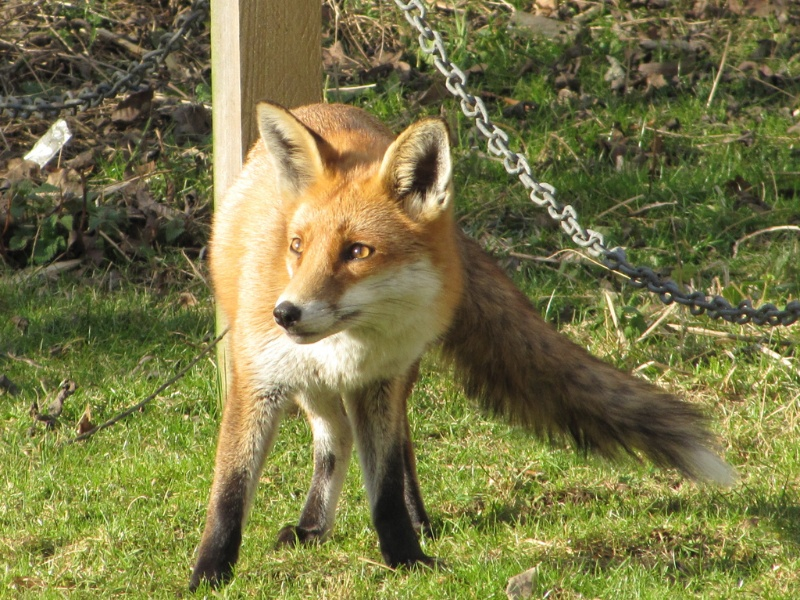fox: (178, 98, 729, 597)
